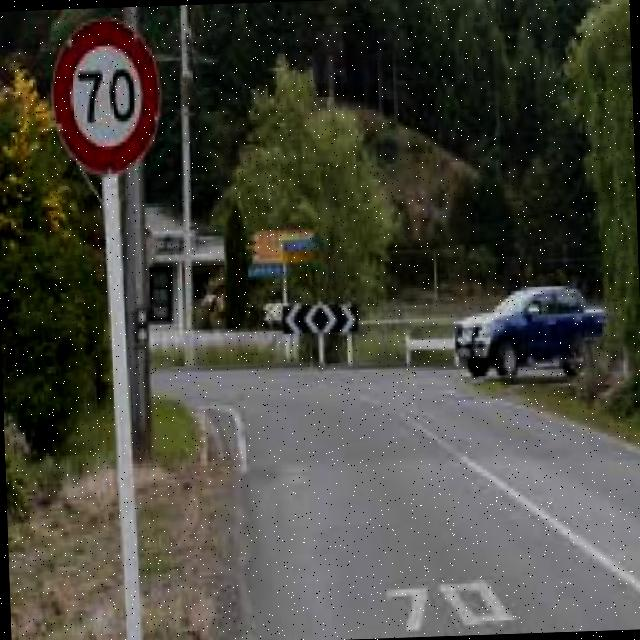Ograniczenie predkosci do 70: (51, 17, 164, 182)
